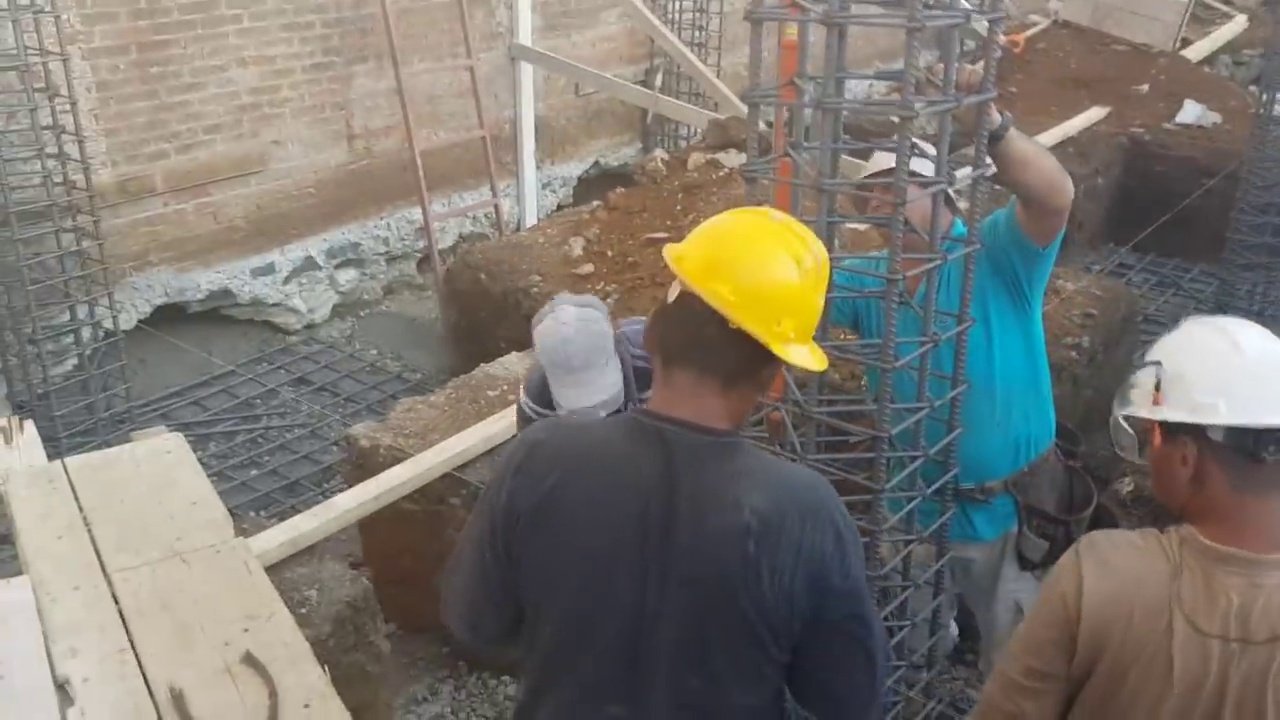helmet: (657, 206, 834, 380), (1127, 314, 1280, 451)
helmet-off: (852, 135, 951, 270), (534, 304, 620, 422)
helmet-on: (656, 202, 844, 444), (1105, 319, 1280, 558)
person: (454, 201, 888, 720), (844, 64, 1087, 693), (1011, 311, 1280, 720), (511, 300, 657, 436)
